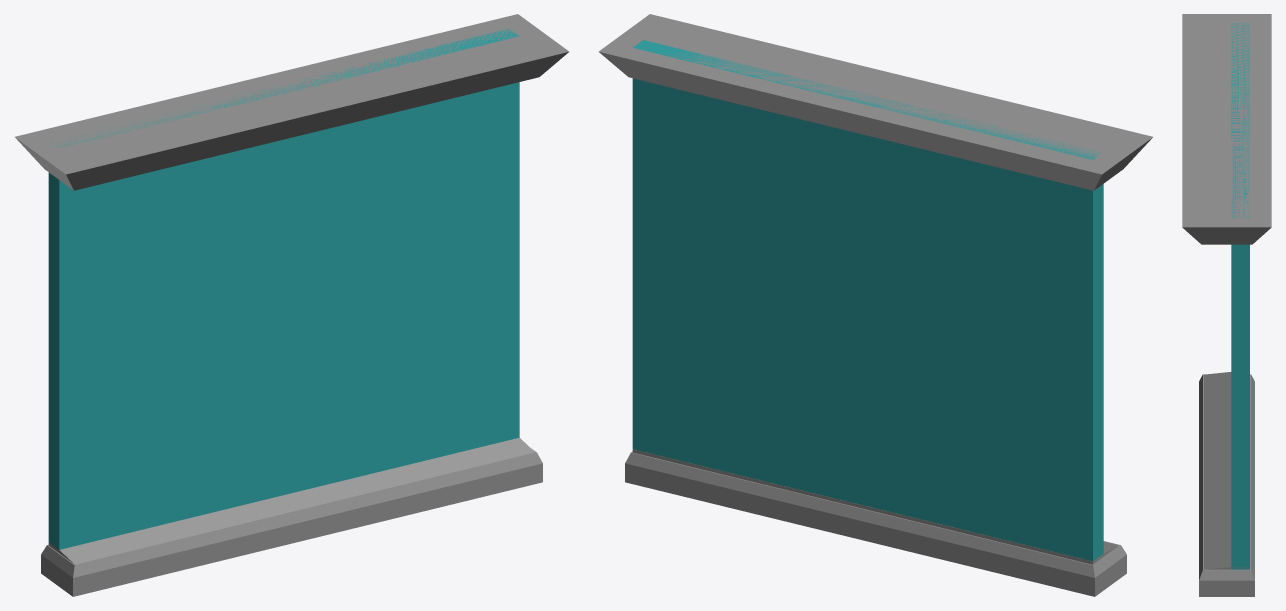
Rendered from Wall_WindowPane.fbx.
3 views of the same model, side by side, from view 1: azimuth 30°, elevation 25°; view 2: azimuth 150°, elevation 25°; view 3: azimuth 270°, elevation 25° (orthographic). The views are drawn at different scales.
Parts seen in each view (by area): view 1: Wall_WindowPane_Glass, Wall_Skirting_Front3, Wall_Architrave_Front8, Wall_WindowPane_Top, Wall_WindowPane_Bottom, Wall_Architrave_Rear8, Wall_Architrave_L_End14, Wall_Architrave_R_End15, Wall_Skirting_L_End12; view 2: Wall_WindowPane_Glass, Wall_Skirting_Rear3, Wall_Architrave_Rear8, Wall_WindowPane_Top, Wall_Architrave_Front8, Wall_WindowPane_Bottom, Wall_Architrave_L_End14, Wall_Architrave_R_End15, Wall_Skirting_L_End12; view 3: Wall_WindowPane_Top, Wall_WindowPane_Glass, Wall_WindowPane_Bottom, Wall_Architrave_Rear8, Wall_Architrave_Front8, Wall_Architrave_R_End15, Wall_Skirting_R_End13, Wall_Skirting_Rear3, Wall_Skirting_Front3, Wall_Architrave_L_End14.
Part boxes in pixels (bbox=[...]): Wall_WindowPane_Glass: bbox=[48, 29, 519, 550]; Wall_Skirting_Front3: bbox=[75, 452, 538, 595]; Wall_Architrave_Front8: bbox=[75, 48, 547, 189]; Wall_WindowPane_Top: bbox=[49, 28, 534, 159]; Wall_WindowPane_Bottom: bbox=[48, 437, 534, 564]; Wall_Architrave_Rear8: bbox=[36, 19, 508, 140]; Wall_Architrave_L_End14: bbox=[15, 131, 87, 190]; Wall_Architrave_R_End15: bbox=[497, 14, 569, 77]; Wall_Skirting_L_End12: bbox=[41, 545, 77, 596]; Wall_WindowPane_Glass: bbox=[632, 40, 1103, 561]; Wall_Skirting_Rear3: bbox=[629, 452, 1092, 595]; Wall_Architrave_Rear8: bbox=[620, 48, 1092, 189]; Wall_WindowPane_Top: bbox=[633, 28, 1118, 190]; Wall_Architrave_Front8: bbox=[659, 19, 1131, 140]; Wall_WindowPane_Bottom: bbox=[632, 449, 1118, 564]; Wall_Architrave_L_End14: bbox=[1080, 131, 1152, 190]; Wall_Architrave_R_End15: bbox=[598, 14, 670, 77]; Wall_Skirting_L_End12: bbox=[1090, 545, 1126, 596]; Wall_WindowPane_Top: bbox=[1204, 23, 1249, 218]; Wall_WindowPane_Glass: bbox=[1231, 23, 1249, 569]; Wall_WindowPane_Bottom: bbox=[1204, 372, 1249, 569]; Wall_Architrave_Rear8: bbox=[1250, 23, 1271, 218]; Wall_Architrave_Front8: bbox=[1182, 23, 1203, 218]; Wall_Architrave_R_End15: bbox=[1182, 218, 1271, 244]; Wall_Skirting_R_End13: bbox=[1199, 569, 1254, 596]; Wall_Skirting_Rear3: bbox=[1250, 374, 1254, 577]; Wall_Skirting_Front3: bbox=[1199, 374, 1203, 577]; Wall_Architrave_L_End14: bbox=[1182, 14, 1271, 22].
Size of the model in its own units: 547 by 450 by 96.95.
